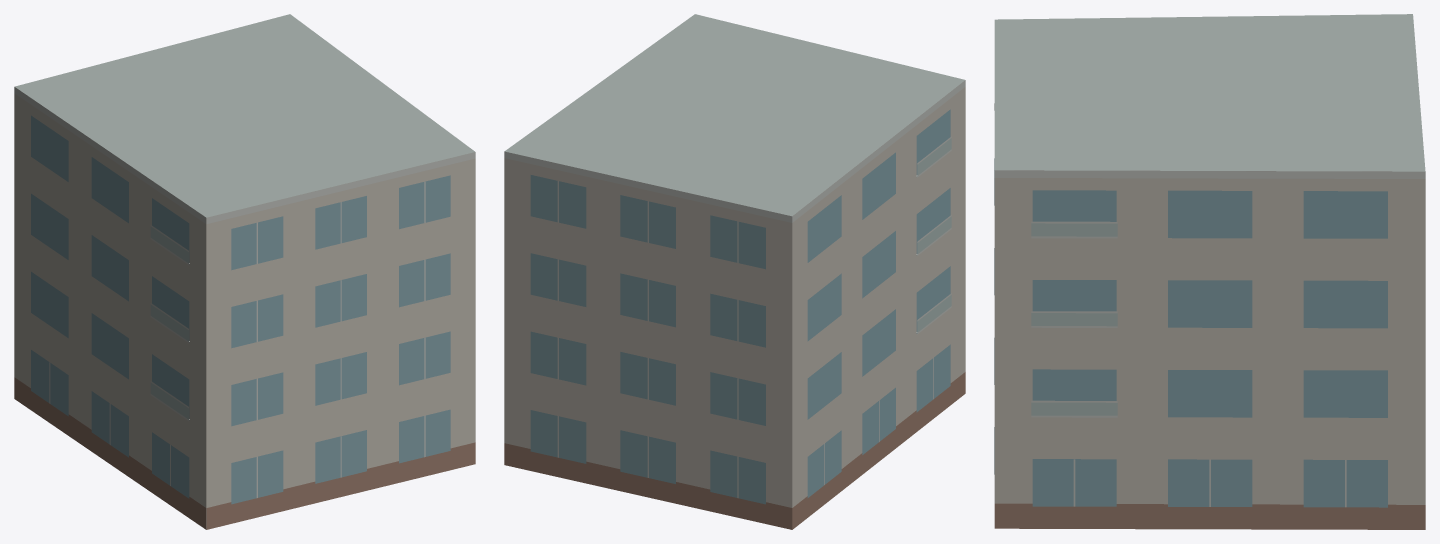
The model's file is survey-upis-32822502.glb.
The picture shows the model from 3 angles, left to right: view 1: azimuth 30°, elevation 25°; view 2: azimuth 150°, elevation 25°; view 3: azimuth 270°, elevation 25°; orthographic projection. The views are drawn at different scales.
Parts seen in each view (by area): view 1: survey-upis-32822502.tmp; view 2: survey-upis-32822502.tmp; view 3: survey-upis-32822502.tmp.
Part boxes in pixels (x1,y1,x2,y2): survey-upis-32822502.tmp: [14, 14, 475, 529]; survey-upis-32822502.tmp: [504, 14, 965, 529]; survey-upis-32822502.tmp: [994, 14, 1425, 529].
Size of the model in its own units: 10.95 by 11.6 by 12.66.
